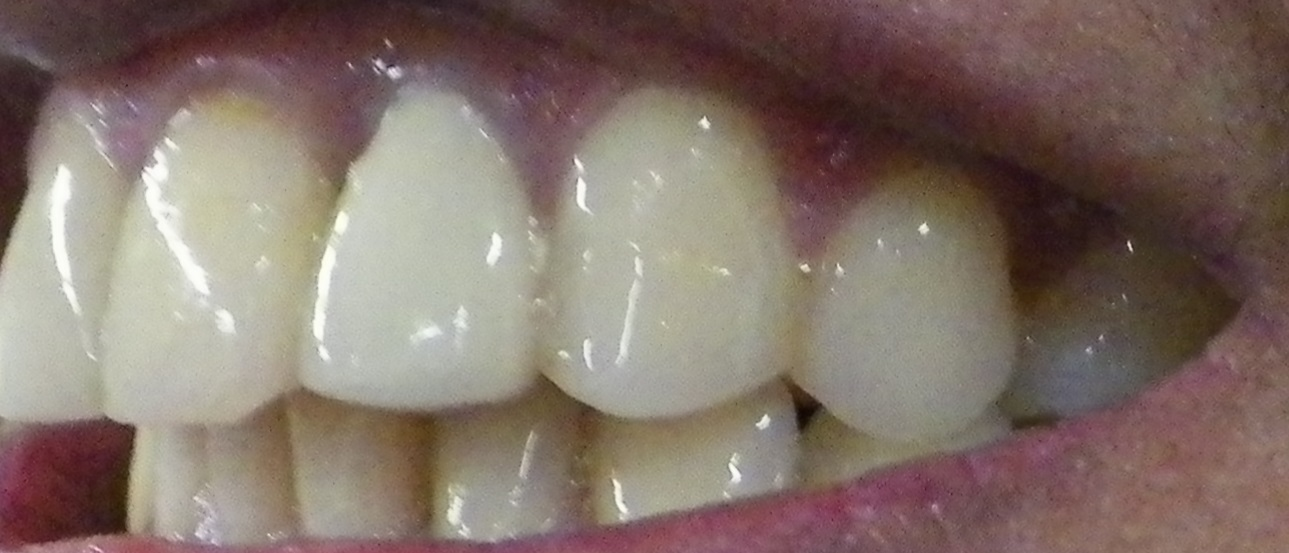boca: (1, 74, 1183, 553)
